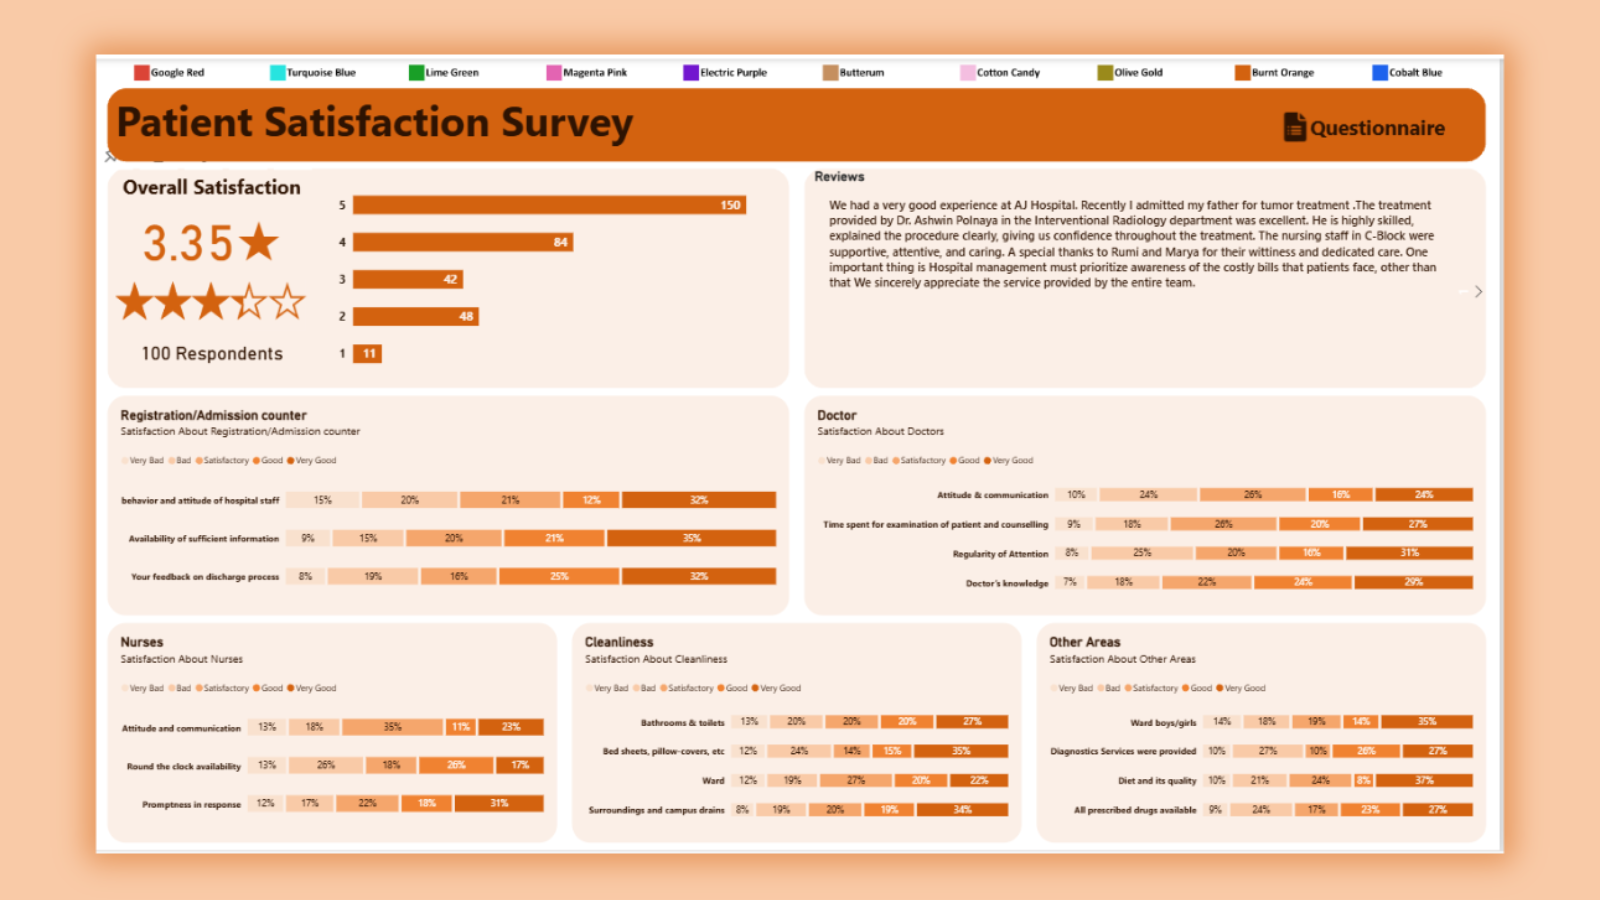

Layout of this report page (visuals, bound fields, positions):
{"tool":"powerbi","page":{"name":"Theme-09","canvas":[1920,1080],"ordinal":2},"visuals":[{"type":"pageNavigator","box":[1504,4,384,32],"z":0},{"type":"shape","title":"Title_Bg","box":[20,40,1880,100],"z":0,"group":"g8"},{"type":"group","id":"g1","title":"Reviews","box":[970,150,930,301],"z":0,"group":"g5"},{"type":"shape","title":"Review_Bg","box":[970,150,930,300],"z":0,"group":"g1"},{"type":"shape","title":"KPI_Bg","box":[20,151,930,300],"z":0,"group":"g6"},{"type":"image","title":"Yellow Star","box":[33,291,260,80],"z":0,"group":"g2"},{"type":"group","id":"g2","title":"Star Graph","box":[33,291,260,80],"z":0,"group":"g9"},{"type":"group","id":"g3","title":"Section Wise Graphs","box":[20,460,1880,610],"z":0,"group":"g10"},{"type":"hundredPercentStackedBarChart","title":"Doctor","fields":{"Category":["Short question List.Questions-Short"],"Y":["Z Measure Table.Count - Answer - VeryBad","Z Measure Table.Count - Answer - Bad","Z Measure Table.Count - Answer - Satisfactory","Z Measure Table.Count - Answer - Good","Z Measure Table.Count - Answer - VeryGood"]},"box":[970,460,930,300],"z":0,"group":"g7"},{"type":"group","id":"g4","title":"Bottom Graphs","box":[20,770,1880,300],"z":0,"group":"g3"},{"type":"hundredPercentStackedBarChart","title":"Other Areas","fields":{"Category":["Short question List.Questions-Short"],"Y":["Z Measure Table.Count - Answer - VeryBad","Z Measure Table.Count - Answer - Bad","Z Measure Table.Count - Answer - Satisfactory","Z Measure Table.Count - Answer - Good","Z Measure Table.Count - Answer - VeryGood"]},"box":[1287,770,613,300],"z":0,"group":"g4"},{"type":"actionButton","title":"Questionnaire","box":[1552,53,304,80],"z":1000,"group":"g8"},{"type":"group","id":"g5","title":"Group 1","box":[20,150,1880,301],"z":1000,"group":"g10"},{"type":"group","id":"g6","title":"KPI","box":[20,151,930,300],"z":1000,"group":"g5"},{"type":"cardVisual","title":"Reviews","fields":{"Data":["Min(Review Table.Reviews)"],"Rows":["Review Table.Sl"]},"box":[970,151,930,300],"z":1000,"group":"g1"},{"type":"clusteredBarChart","title":"Star Wise Graph","fields":{"Category":["Form Responses 1.Answers"],"Y":["Sum(Form Responses 1.Answers)"]},"box":[320,155,624,296],"z":1000,"group":"g6"},{"type":"clusteredBarChart","fields":{"Y":["Z Measure Table.Diff New"]},"box":[33,291,260,80],"z":1000,"group":"g2"},{"type":"cardVisual","title":"Respondents","fields":{"Data":["Z Measure Table.Tot_Pat"]},"box":[43,379,240,48],"z":1000,"group":"g9"},{"type":"hundredPercentStackedBarChart","title":"Registration/Admission counter","fields":{"Category":["Short question List.Questions-Short"],"Y":["Z Measure Table.Count - Answer - VeryBad","Z Measure Table.Count - Answer - Bad","Z Measure Table.Count - Answer - Satisfactory","Z Measure Table.Count - Answer - Good","Z Measure Table.Count - Answer - VeryGood"]},"box":[20,460,930,300],"z":1000,"group":"g7"},{"type":"group","id":"g7","title":"Top Graphs","box":[20,460,1880,300],"z":1000,"group":"g3"},{"type":"hundredPercentStackedBarChart","title":"Cleanliness","fields":{"Category":["Short question List.Questions-Short"],"Y":["Z Measure Table.Count - Answer - VeryBad","Z Measure Table.Count - Answer - Bad","Z Measure Table.Count - Answer - Satisfactory","Z Measure Table.Count - Answer - Good","Z Measure Table.Count - Answer - VeryGood"]},"box":[653,770,613,300],"z":1000,"group":"g4"},{"type":"group","id":"g8","title":"Title","box":[20,40,1880,100],"z":2000,"group":"g10"},{"type":"textbox","title":"Title","box":[32,45,736,88],"z":2000,"group":"g8"},{"type":"group","id":"g9","title":"KPI","box":[23,155,280,272],"z":2000,"group":"g6"},{"type":"cardVisual","title":"Overall Satisfaction","fields":{"Data":["Z Measure Table.Overall Satisfaction"]},"box":[23,155,280,144],"z":2000,"group":"g9"},{"type":"image","title":"Blank Star","box":[33,291,260,80],"z":2000,"group":"g2"},{"type":"hundredPercentStackedBarChart","title":"Nurses","fields":{"Category":["Short question List.Questions-Short"],"Y":["Z Measure Table.Count - Answer - VeryBad","Z Measure Table.Count - Answer - Bad","Z Measure Table.Count - Answer - Satisfactory","Z Measure Table.Count - Answer - Good","Z Measure Table.Count - Answer - VeryGood"]},"box":[20,770,613,300],"z":2000,"group":"g4"},{"type":"group","id":"g10","title":"Theme 07","box":[20,40,1880,1030],"z":7000}]}

Visuals, with their boxes in screenshot pixels (x1, y1, x2, y2), scaled from the page's 1920x1080 canvas onto the 1600x900 screenshot:
pageNavigator: [left=1253, top=3, right=1573, bottom=30]
"Title_Bg" shape: [left=17, top=33, right=1583, bottom=117]
"Reviews" group: [left=808, top=125, right=1583, bottom=376]
"Review_Bg" shape: [left=808, top=125, right=1583, bottom=375]
"KPI_Bg" shape: [left=17, top=126, right=792, bottom=376]
"Yellow Star" image: [left=28, top=242, right=244, bottom=309]
"Star Graph" group: [left=28, top=242, right=244, bottom=309]
"Section Wise Graphs" group: [left=17, top=383, right=1583, bottom=892]
"Doctor" hundredPercentStackedBarChart: [left=808, top=383, right=1583, bottom=633]
"Bottom Graphs" group: [left=17, top=642, right=1583, bottom=892]
"Other Areas" hundredPercentStackedBarChart: [left=1072, top=642, right=1583, bottom=892]
"Questionnaire" actionButton: [left=1293, top=44, right=1547, bottom=111]
"Group 1" group: [left=17, top=125, right=1583, bottom=376]
"KPI" group: [left=17, top=126, right=792, bottom=376]
"Reviews" cardVisual: [left=808, top=126, right=1583, bottom=376]
"Star Wise Graph" clusteredBarChart: [left=267, top=129, right=787, bottom=376]
clusteredBarChart - Z Measure Table.Diff New: [left=28, top=242, right=244, bottom=309]
"Respondents" cardVisual: [left=36, top=316, right=236, bottom=356]
"Registration/Admission counter" hundredPercentStackedBarChart: [left=17, top=383, right=792, bottom=633]
"Top Graphs" group: [left=17, top=383, right=1583, bottom=633]
"Cleanliness" hundredPercentStackedBarChart: [left=544, top=642, right=1055, bottom=892]
"Title" group: [left=17, top=33, right=1583, bottom=117]
"Title" textbox: [left=27, top=38, right=640, bottom=111]
"KPI" group: [left=19, top=129, right=252, bottom=356]
"Overall Satisfaction" cardVisual: [left=19, top=129, right=252, bottom=249]
"Blank Star" image: [left=28, top=242, right=244, bottom=309]
"Nurses" hundredPercentStackedBarChart: [left=17, top=642, right=528, bottom=892]
"Theme 07" group: [left=17, top=33, right=1583, bottom=892]
